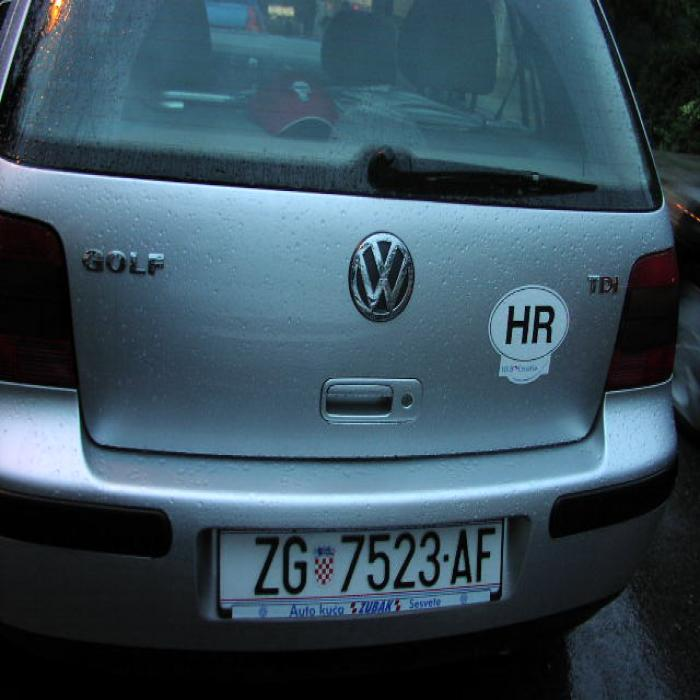number_plate: (216, 524, 502, 594)
